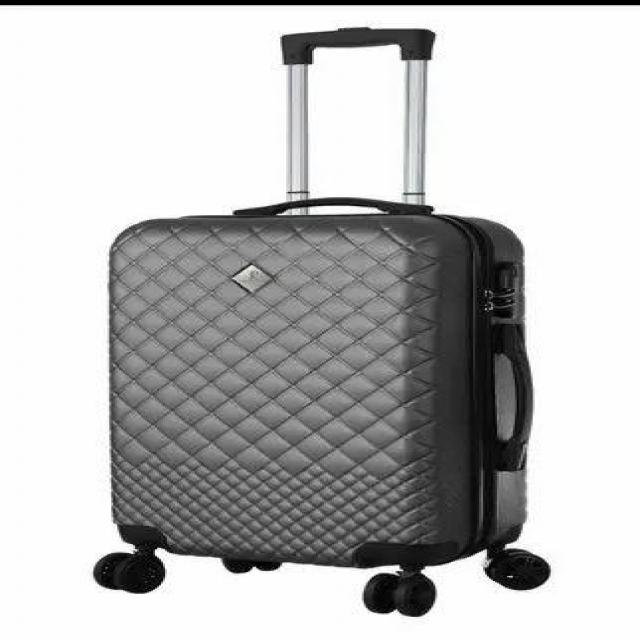luggage: (98, 190, 551, 572)
